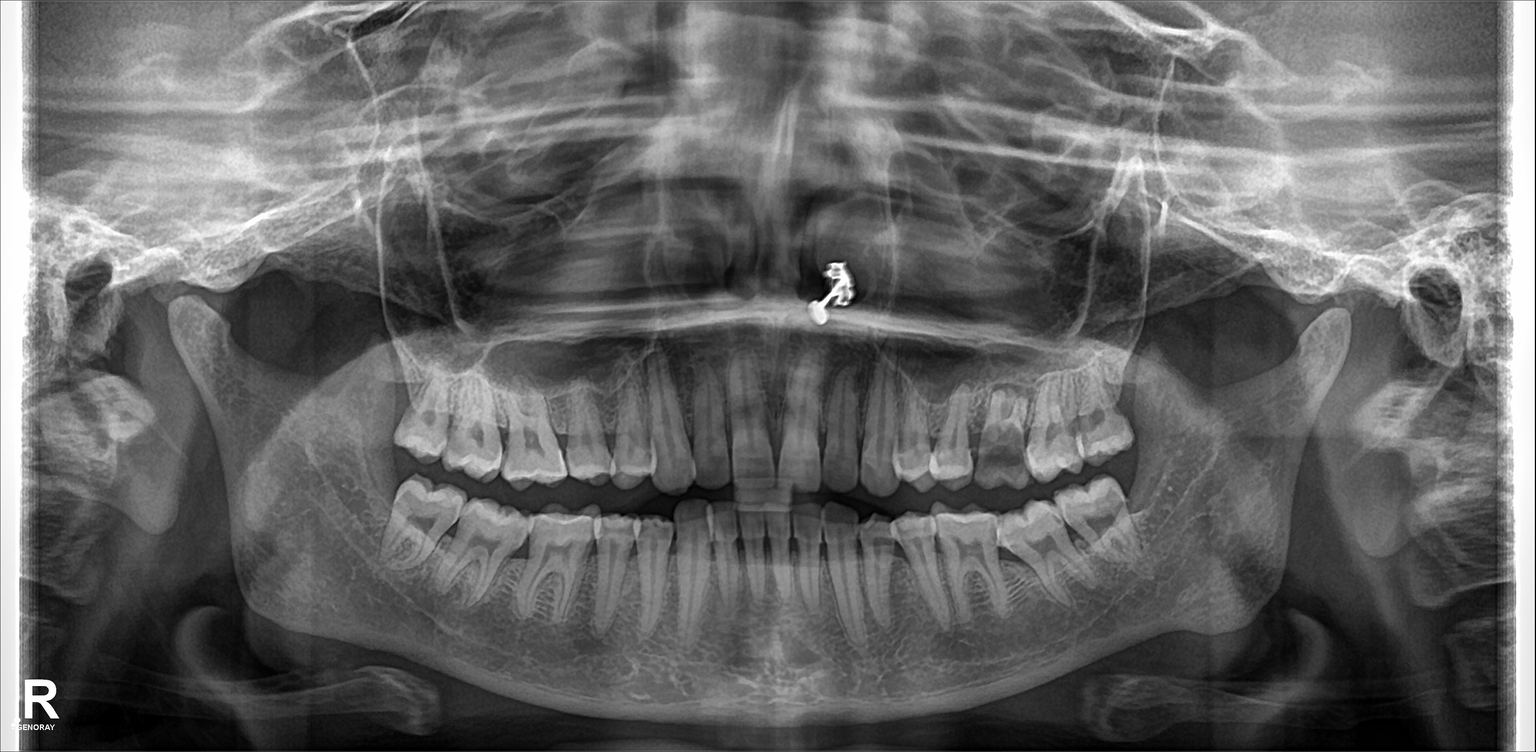Dental Caries: (985, 430, 1024, 475)
